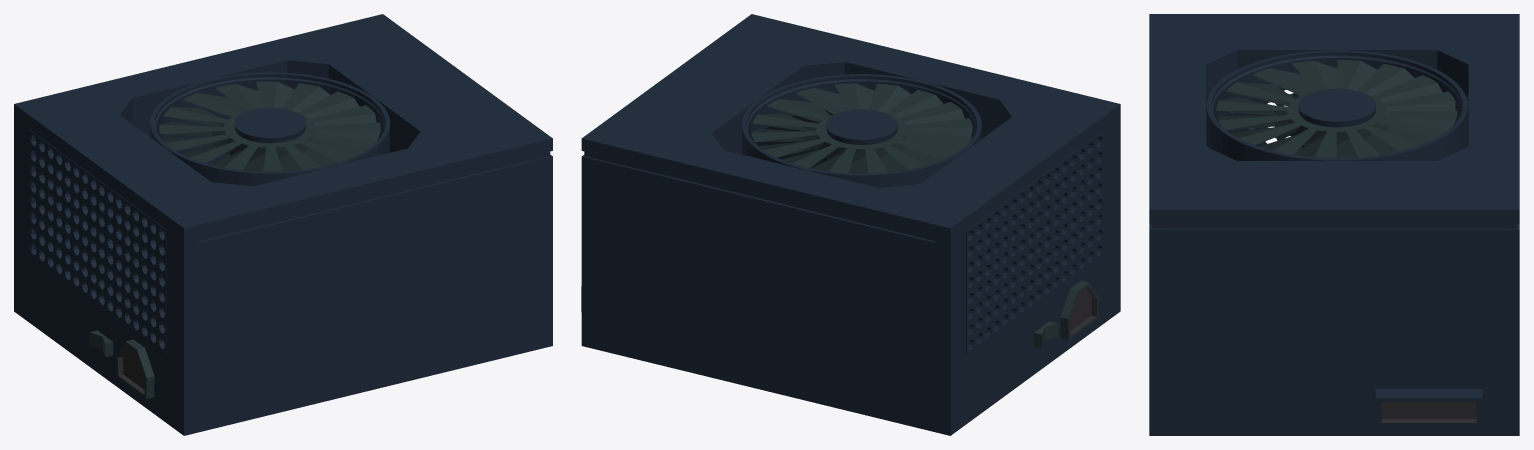
File: PSU.obj
3 renders of one model, left to right at view 1: azimuth 30°, elevation 25°; view 2: azimuth 150°, elevation 25°; view 3: azimuth 270°, elevation 25°, orthographic. The views are drawn at different scales.
Visible parts, largest first — view 1: PSU_Plane.015; view 2: PSU_Plane.015; view 3: PSU_Plane.015.
Part boxes in pixels (box(x1,y1,x2,y2)): PSU_Plane.015: box(14, 14, 552, 435); PSU_Plane.015: box(581, 14, 1120, 435); PSU_Plane.015: box(1149, 14, 1519, 435).
Size of the model in its own units: 3.56 by 1.79 by 2.66.
1 material, 1 textured.
